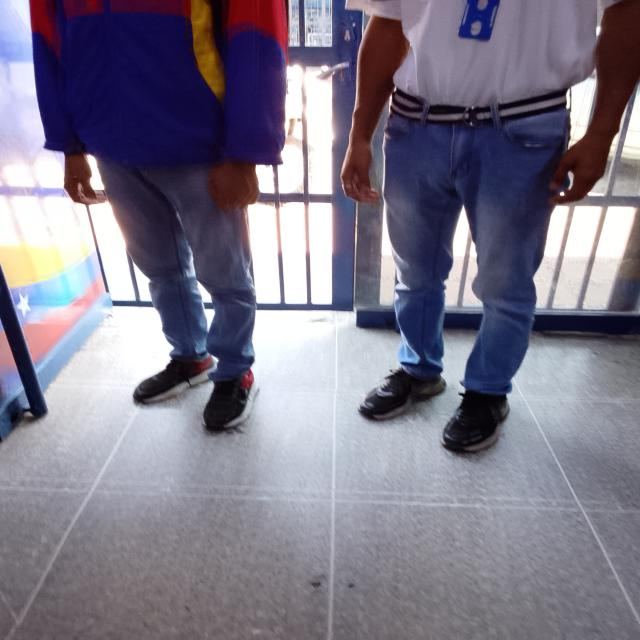carnet: (458, 0, 500, 41)
chaqueta_unefa: (29, 0, 290, 166)
